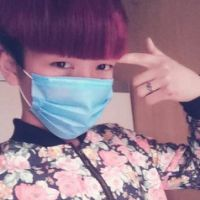face_mask: (23, 18, 117, 131)
